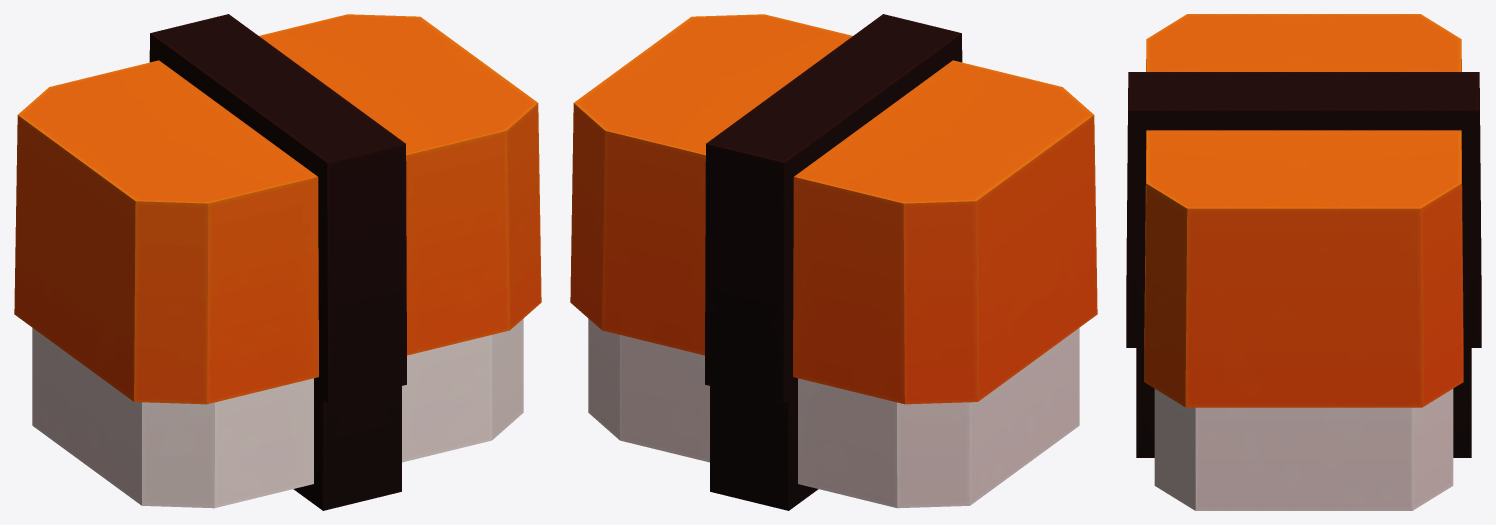
The model's file is SalmonRoll.fbx.
3 views of the same model, side by side, from view 1: azimuth 30°, elevation 25°; view 2: azimuth 150°, elevation 25°; view 3: azimuth 270°, elevation 25° (orthographic).
Parts seen in each view (by area): view 1: SalmonRoll; view 2: SalmonRoll; view 3: SalmonRoll.
Part boxes in pixels (x1,y1,x2,y2): SalmonRoll: [14, 14, 541, 510]; SalmonRoll: [570, 14, 1097, 510]; SalmonRoll: [1126, 14, 1481, 510].
Bounding box in the file's own units: 134 × 102 × 110.
1 material, 1 textured.
